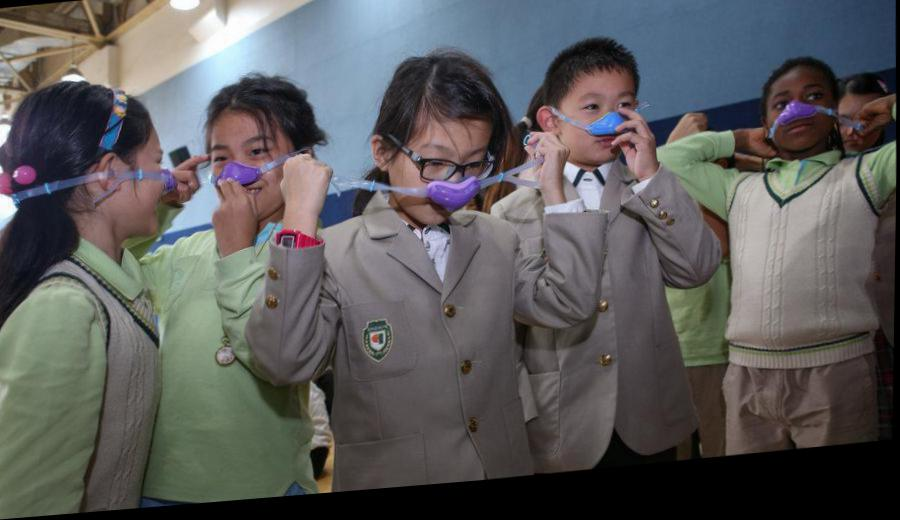NONE: (835, 114, 885, 167)
WRONG: (201, 130, 295, 228), (91, 146, 177, 239), (406, 144, 491, 233), (567, 97, 641, 176), (769, 93, 841, 168)
